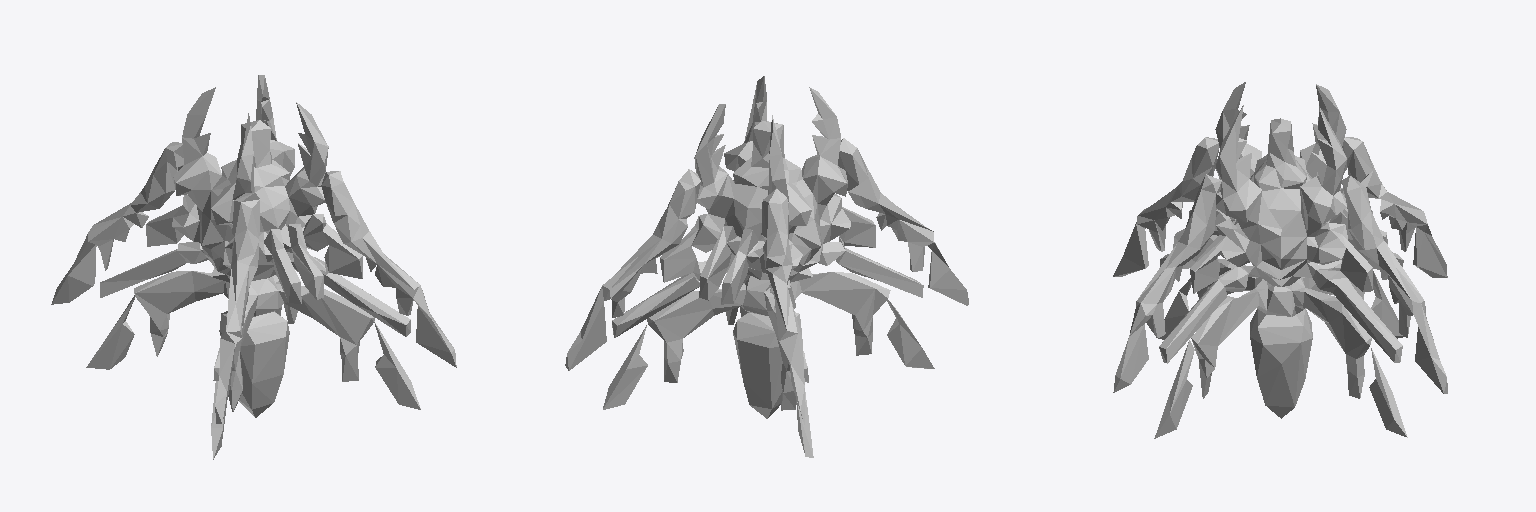
The model's file is tripo_convert_5b2a6972-ac52-4ecb-bef2-cab5f1ed50ab.obj.
3 views of the same model, side by side, from view 1: azimuth 30°, elevation 25°; view 2: azimuth 150°, elevation 25°; view 3: azimuth 270°, elevation 25° (orthographic).
Parts seen in each view (by area): view 1: tripo_node_5b2a6972-ac52-4ecb-bef2-cab5f1ed50ab; view 2: tripo_node_5b2a6972-ac52-4ecb-bef2-cab5f1ed50ab; view 3: tripo_node_5b2a6972-ac52-4ecb-bef2-cab5f1ed50ab.
Boxes of the visible parts, <box> form: tripo_node_5b2a6972-ac52-4ecb-bef2-cab5f1ed50ab: <box>51,75,456,459</box>; tripo_node_5b2a6972-ac52-4ecb-bef2-cab5f1ed50ab: <box>565,76,968,457</box>; tripo_node_5b2a6972-ac52-4ecb-bef2-cab5f1ed50ab: <box>1113,82,1447,438</box>.
Size of the model in its own units: 0.7922 by 1.02 by 0.9518.